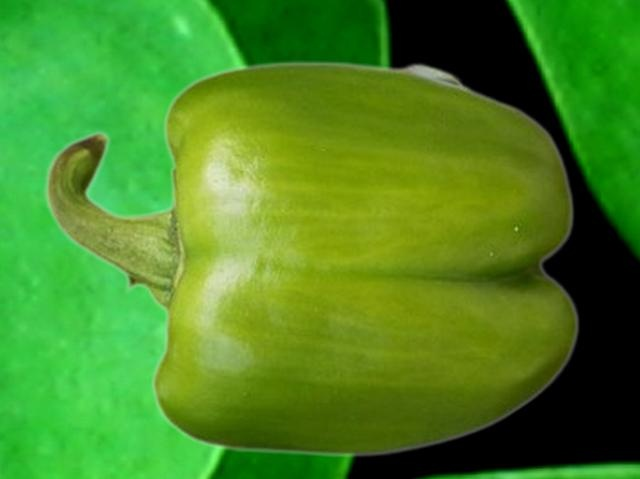bell_pepper: (44, 60, 579, 457)
